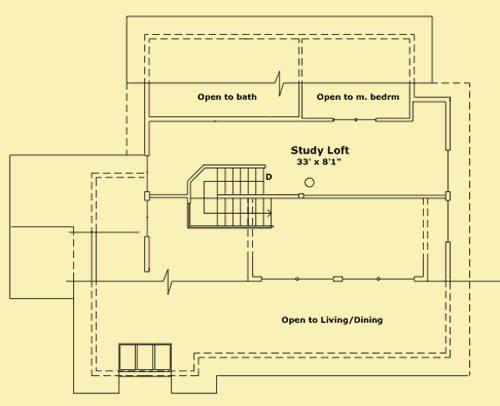the upper floor loft can be used as a study space: (146, 118, 414, 284)
